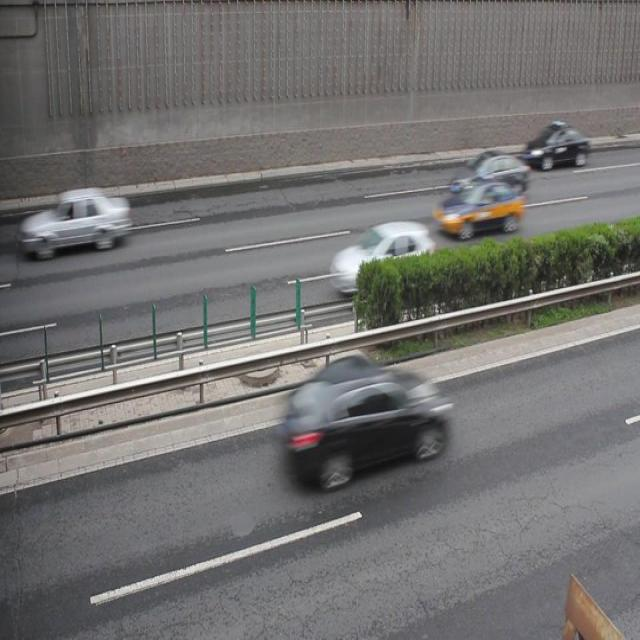car: (282, 352, 450, 489), (19, 183, 130, 259), (329, 218, 435, 296), (430, 175, 523, 236), (449, 149, 527, 201), (522, 120, 588, 170)
